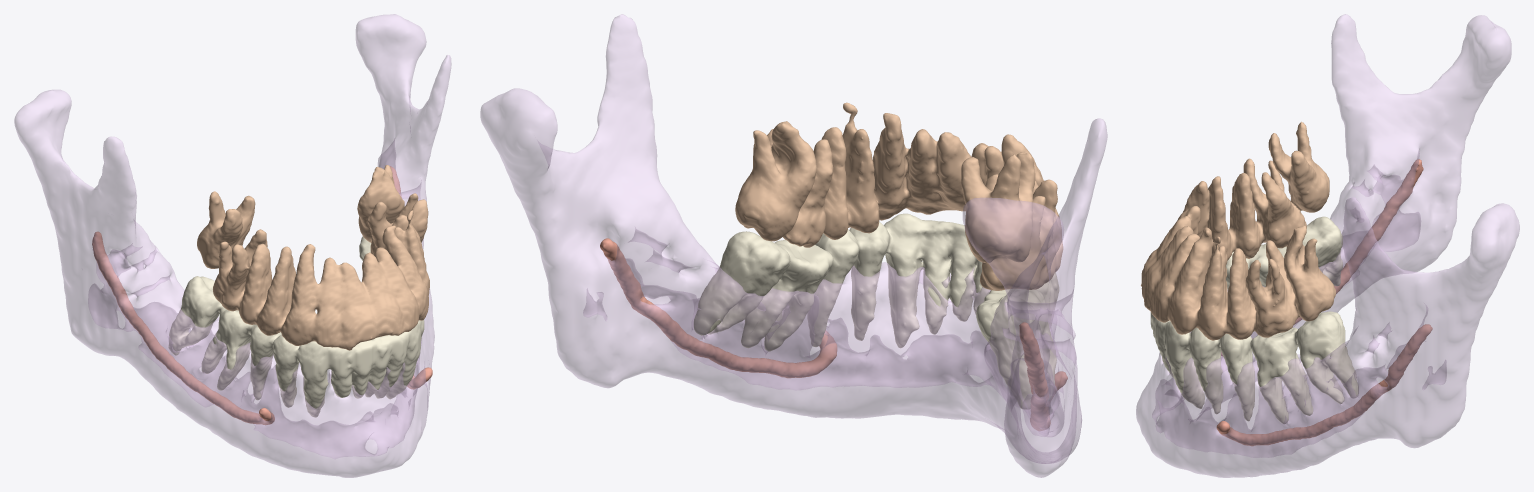
Rendered from Jaws_Teeth_Canal_scene.glb.
3 views of the same model, side by side, from view 1: azimuth 30°, elevation 25°; view 2: azimuth 150°, elevation 25°; view 3: azimuth 270°, elevation 25° (orthographic). The views are drawn at different scales.
Parts seen in each view (by area): view 1: mandible, upper_teeth, lower_teeth, mandibular_canal; view 2: mandible, upper_teeth, lower_teeth, mandibular_canal; view 3: mandible, upper_teeth, lower_teeth, mandibular_canal.
Part boxes in pixels (x1,y1,x2,y2): mandible: (14,14,451,477); upper_teeth: (197,165,429,350); lower_teeth: (168,236,424,417); mandibular_canal: (92,166,432,425); mandible: (480,14,1107,477); upper_teeth: (735,102,1063,290); lower_teeth: (693,213,1059,409); mandibular_canal: (600,238,1067,430); mandible: (1136,14,1519,477); upper_teeth: (1141,121,1336,340); lower_teeth: (1150,216,1358,423); mandibular_canal: (1216,159,1432,446).
Bounding box in the file's own units: 113 × 83.59 × 84.96.
